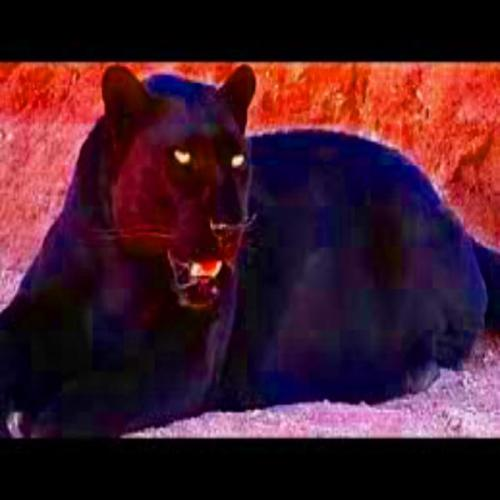panther-endangered: (3, 67, 500, 432)
